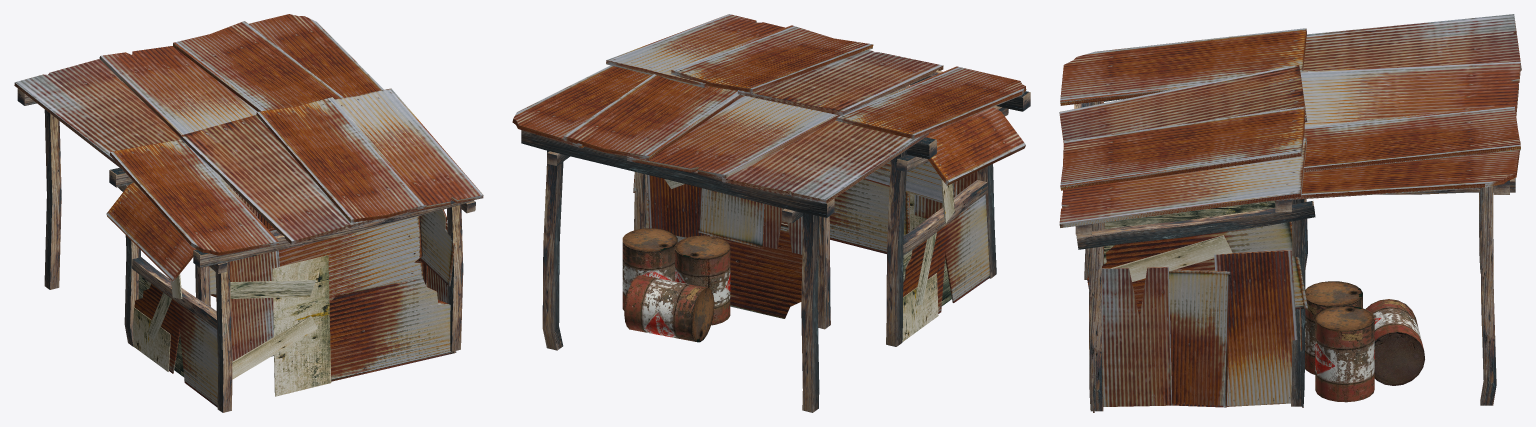
Rendered from old_shack.glb.
3 renders of one model, left to right at view 1: azimuth 30°, elevation 25°; view 2: azimuth 150°, elevation 25°; view 3: azimuth 270°, elevation 25°, orthographic. The views are drawn at different scales.
Visible parts, largest first — view 1: pasted__pasted__pasted__pCube1_pasted__pasted__pasted__lambe (×4), pasted__pasted__pCube1 (×3), pasted__pCube1 (×2), pasted__pasted__pasted__pCube2_pasted__pasted__pasted__lambe (×4), pasted__pasted__pasted__pasted__pCube1_pasted__pasted__paste, pCube1, pasted__pasted__pCube3, pasted__pasted__pasted__pCube3_pasted__pasted__pasted__lambe (×2), pasted__pCube4, pasted__pasted__pasted__pasted__pCube4_pasted__pasted__paste (×2), pasted__pasted__pasted__pCube4_pasted__pasted__pasted__lambe (×2), pCube4 (+3 smaller); view 2: pasted__pasted__pasted__pCube1_pasted__pasted__pasted__lambe (×4), pasted__pCube1 (×2), pasted__pasted__pCube1 (×3), pasted__pasted__pasted__pCube2_pasted__pasted__pasted__lambe (×2), pasted__pasted__pCube4 (×4), pCube1, pasted__pCylinder1 (×2), pasted__pasted__pasted__pasted__pCube1_pasted__pasted__paste, pasted__pasted__pCube2 (×2), pasted__pasted__pasted__pCube4_pasted__pasted__pasted__lambe (×3), pasted__pCube4, pasted__pCube2 (+6 smaller); view 3: pasted__pCube1 (×2), pasted__pasted__pCube1 (×2), pasted__pasted__pasted__pCube1_pasted__pasted__pasted__lambe (×2), pasted__pasted__pasted__pCube2_pasted__pasted__pasted__lambe (×2), pasted__pasted__pasted__pasted__pCube1_pasted__pasted__paste, pasted__pCube2, pCube1, pasted__pasted__pCube2, pasted__pasted__pCube4 (×4), pasted__pCylinder1 (×2), pCylinder1, pasted__pasted__pasted__pCube4_pasted__pasted__pasted__lambe (+2 smaller).
Part boxes in pixels (left/top/right/bottom): pasted__pasted__pasted__pCube1_pasted__pasted__pasted__lambe (×4): left=106, top=14, right=426, bottom=302; pasted__pasted__pCube1 (×3): left=173, top=21, right=483, bottom=361; pasted__pCube1 (×2): left=99, top=46, right=378, bottom=244; pasted__pasted__pasted__pCube2_pasted__pasted__pasted__lambe (×4): left=134, top=209, right=456, bottom=407; pasted__pasted__pasted__pasted__pCube1_pasted__pasted__paste: left=110, top=139, right=278, bottom=255; pCube1: left=14, top=59, right=180, bottom=170; pasted__pasted__pCube3: left=272, top=255, right=331, bottom=396; pasted__pasted__pasted__pCube3_pasted__pasted__pasted__lambe (×2): left=133, top=307, right=317, bottom=379; pasted__pCube4: left=44, top=109, right=61, bottom=289; pasted__pasted__pasted__pasted__pCube4_pasted__pasted__paste (×2): left=193, top=188, right=473, bottom=306; pasted__pasted__pasted__pCube4_pasted__pasted__pasted__lambe (×2): left=124, top=235, right=217, bottom=346; pCube4: left=215, top=261, right=232, bottom=412; pasted__pasted__pasted__pCube1_pasted__pasted__pasted__lambe (×4): left=512, top=25, right=1025, bottom=202; pasted__pCube1 (×2): left=627, top=50, right=943, bottom=178; pasted__pasted__pCube1 (×3): left=563, top=14, right=977, bottom=218; pasted__pasted__pasted__pCube2_pasted__pasted__pasted__lambe (×2): left=781, top=179, right=989, bottom=313; pasted__pasted__pCube4 (×4): left=521, top=106, right=1008, bottom=350; pCube1: left=722, top=120, right=928, bottom=203; pasted__pCylinder1 (×2): left=624, top=235, right=730, bottom=342; pasted__pasted__pasted__pasted__pCube1_pasted__pasted__paste: left=836, top=66, right=1026, bottom=139; pasted__pasted__pCube2 (×2): left=646, top=193, right=802, bottom=318; pasted__pasted__pasted__pCube4_pasted__pasted__pasted__lambe (×3): left=886, top=137, right=987, bottom=346; pasted__pCube4: left=801, top=213, right=819, bottom=412; pasted__pCube2: left=698, top=188, right=764, bottom=248; pasted__pCube1 (×2): left=1059, top=61, right=1520, bottom=142; pasted__pasted__pCube1 (×2): left=1059, top=105, right=1520, bottom=227; pasted__pasted__pasted__pCube1_pasted__pasted__pasted__lambe (×2): left=1060, top=106, right=1520, bottom=200; pasted__pasted__pasted__pCube2_pasted__pasted__pasted__lambe (×2): left=1087, top=221, right=1307, bottom=406; pasted__pasted__pasted__pasted__pCube1_pasted__pasted__paste: left=1060, top=28, right=1306, bottom=105; pasted__pCube2: left=1214, top=250, right=1297, bottom=406; pCube1: left=1303, top=14, right=1521, bottom=71; pasted__pasted__pCube2: left=1169, top=269, right=1230, bottom=407; pasted__pasted__pCube4 (×4): left=1089, top=178, right=1515, bottom=411; pasted__pCylinder1 (×2): left=1305, top=281, right=1424, bottom=385; pCylinder1: left=1315, top=305, right=1374, bottom=402; pasted__pasted__pasted__pCube4_pasted__pasted__pasted__lambe: left=1076, top=201, right=1315, bottom=249.
Bounding box in the file's own units: 0.0262 × 0.0174 × 0.0294.
Materials: 47 (47 with a texture image).
